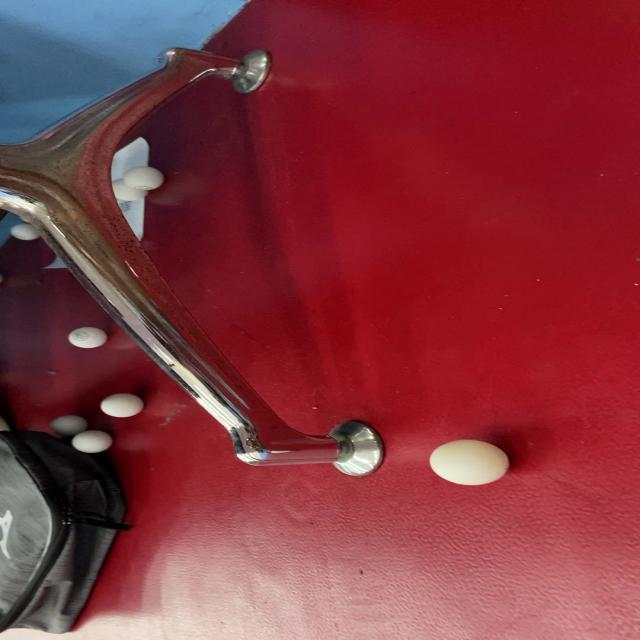ping-pong-ball: (428, 438, 511, 488), (99, 392, 145, 418), (104, 177, 150, 202), (122, 164, 166, 190), (65, 325, 109, 350), (71, 430, 116, 454), (48, 414, 90, 436), (8, 222, 43, 242)
